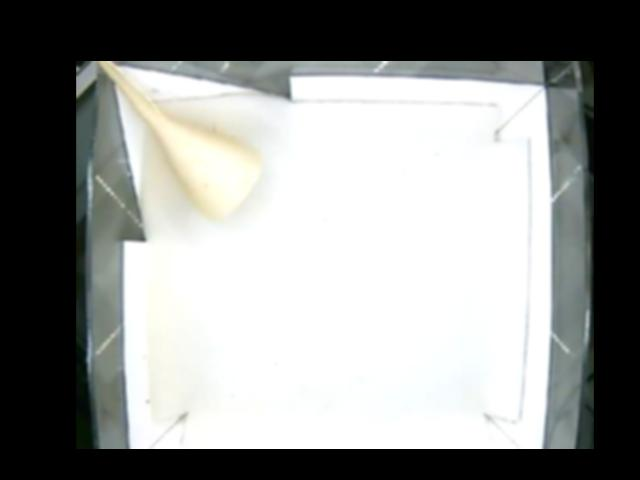Mooli: (153, 114, 265, 222)
